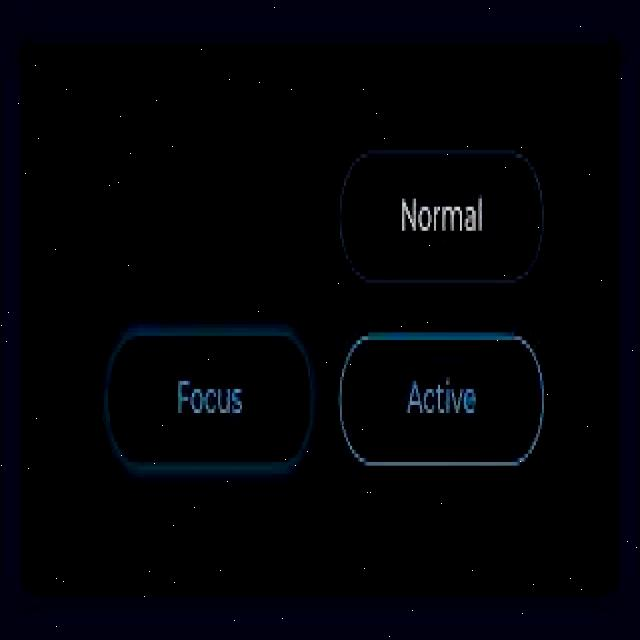button: (102, 328, 316, 478), (342, 150, 546, 288), (338, 330, 544, 464)
